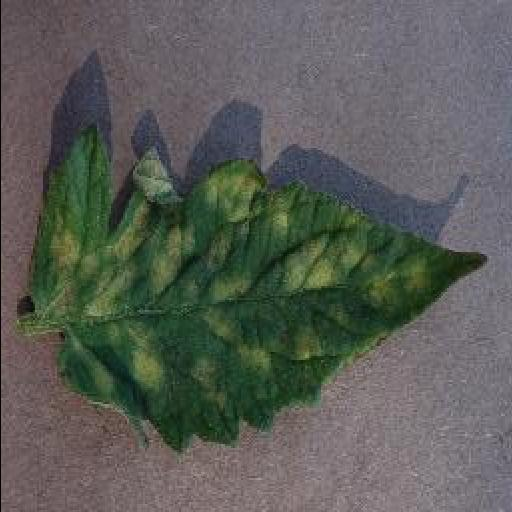disease_tomato: (28, 132, 492, 458)
